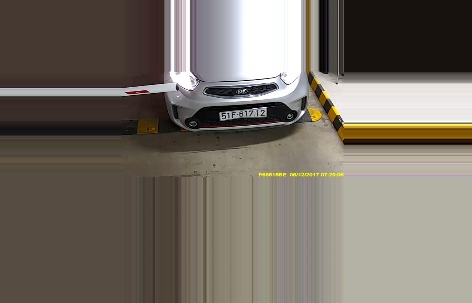plate: (219, 107, 270, 121)
